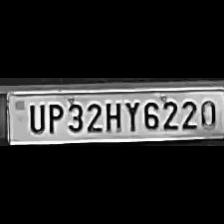0: (198, 97, 216, 128)
2: (178, 97, 198, 130), (84, 100, 102, 134), (160, 98, 178, 130)
3: (64, 100, 84, 134)
6: (140, 98, 158, 132)
H: (102, 100, 122, 132)
P: (44, 100, 62, 134)
U: (26, 100, 44, 134)
Y: (123, 100, 139, 132)
